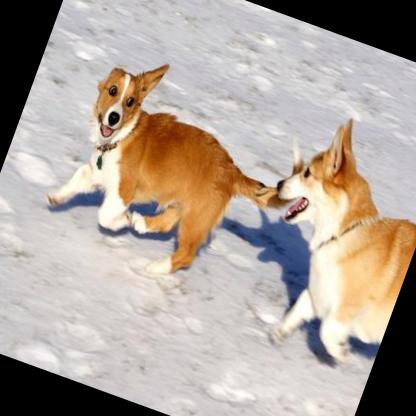Cardigan: (30, 36, 324, 310), (222, 101, 416, 379)
